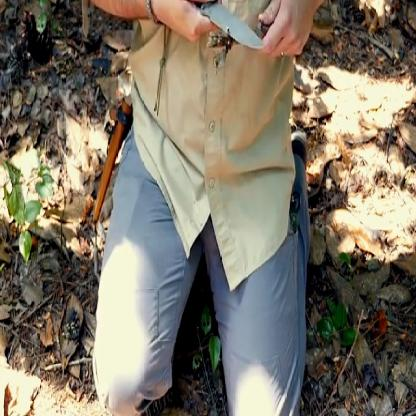knife: (170, 0, 280, 67)
